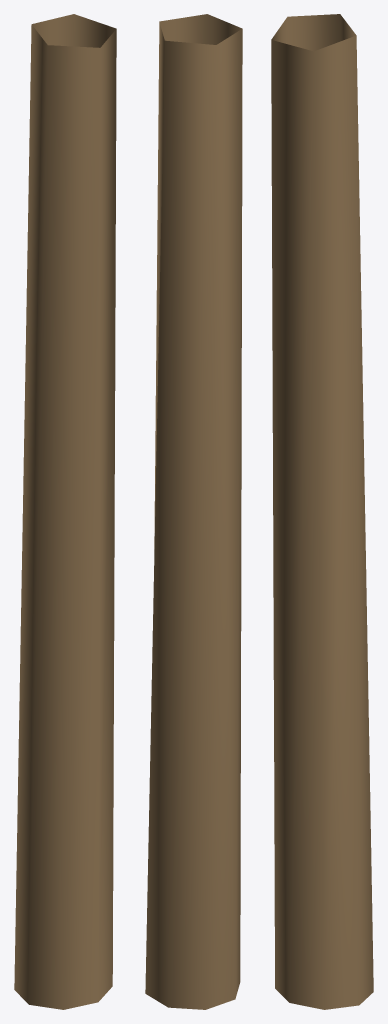
3 renders of one model, left to right at view 1: azimuth 90°, elevation 25°; view 2: azimuth 150°, elevation 25°; view 3: azimuth 270°, elevation 25°, orthographic.
Parts seen in each view (by area): view 1: polySurface13; view 2: polySurface13; view 3: polySurface13.
Part boxes in pixels (<box>): polySurface13: <box>14,14,116,1009</box>; polySurface13: <box>145,14,242,1009</box>; polySurface13: <box>271,14,373,1009</box>.
Bounding box in the file's own units: 5.12 × 55.12 × 5.32.
